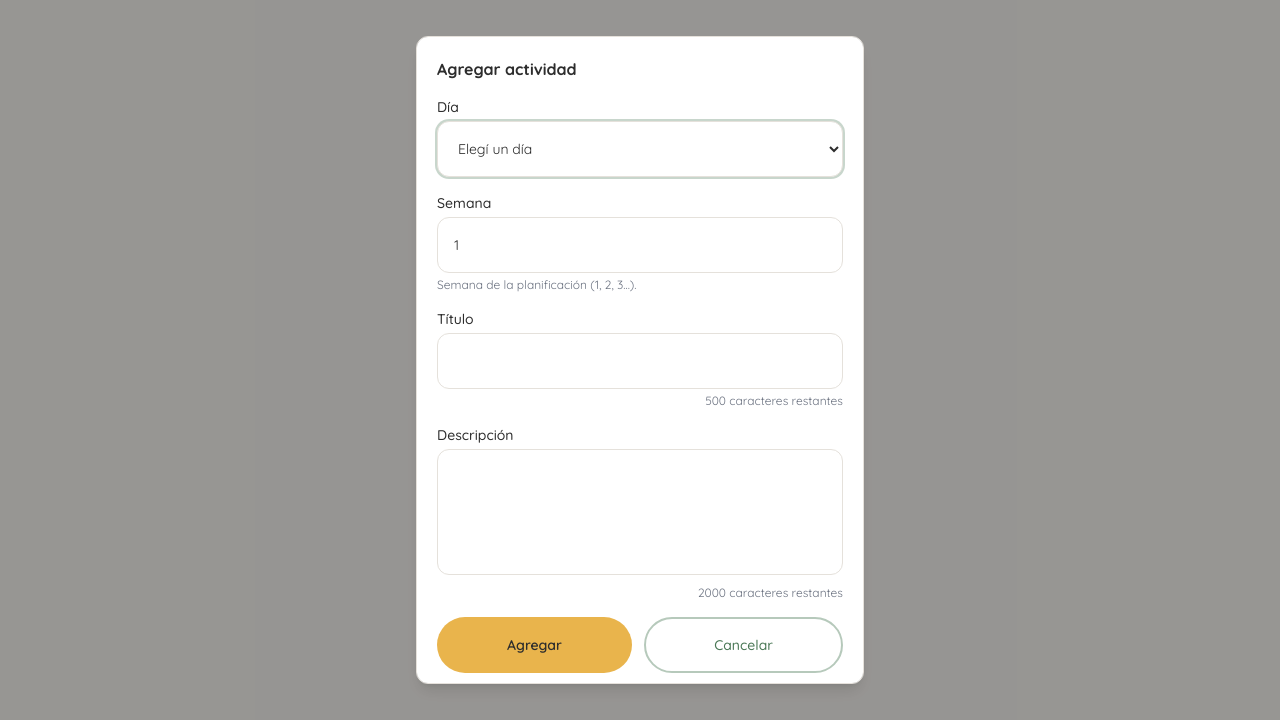
Scenario: AgregarActividadForm › no envía cuando falta solo el día
In the field labelled "Título": (640, 361) x1=437 y1=333 x2=843 y2=389, type "Kermesse"
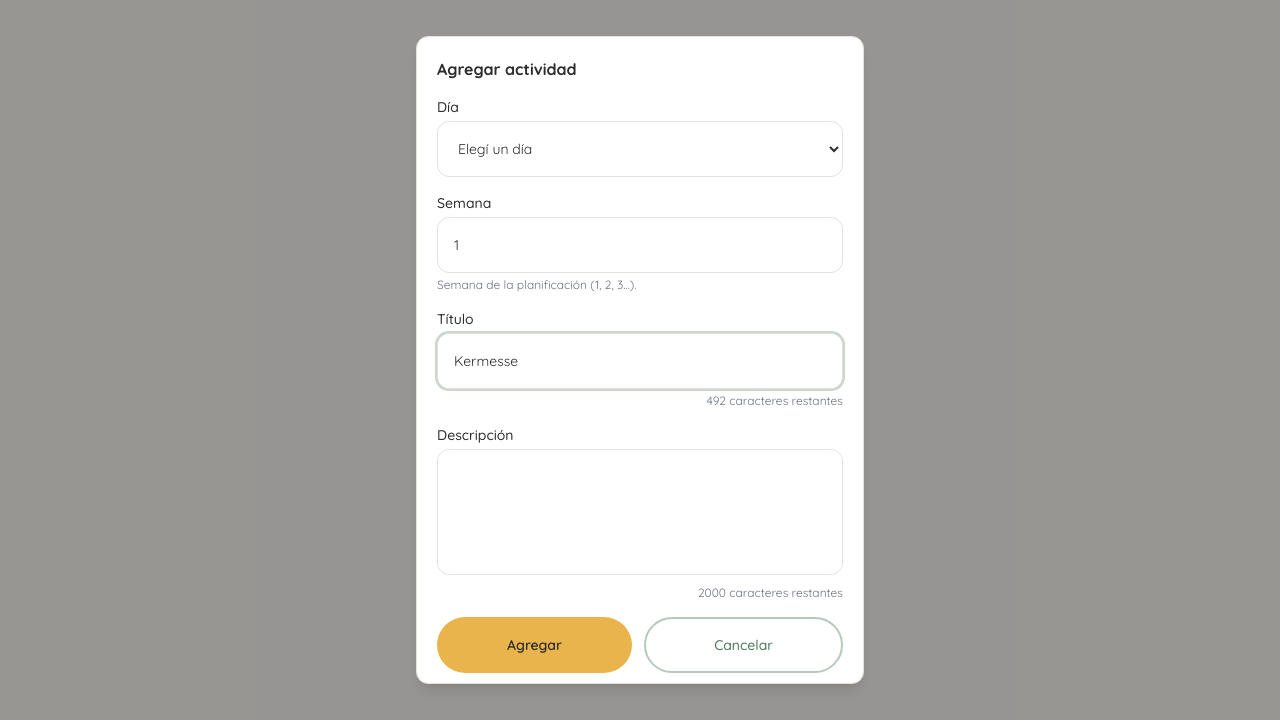
In the text box labelled "Descripción": (640, 512) x1=437 y1=449 x2=843 y2=575, type "Postas lúdicas"
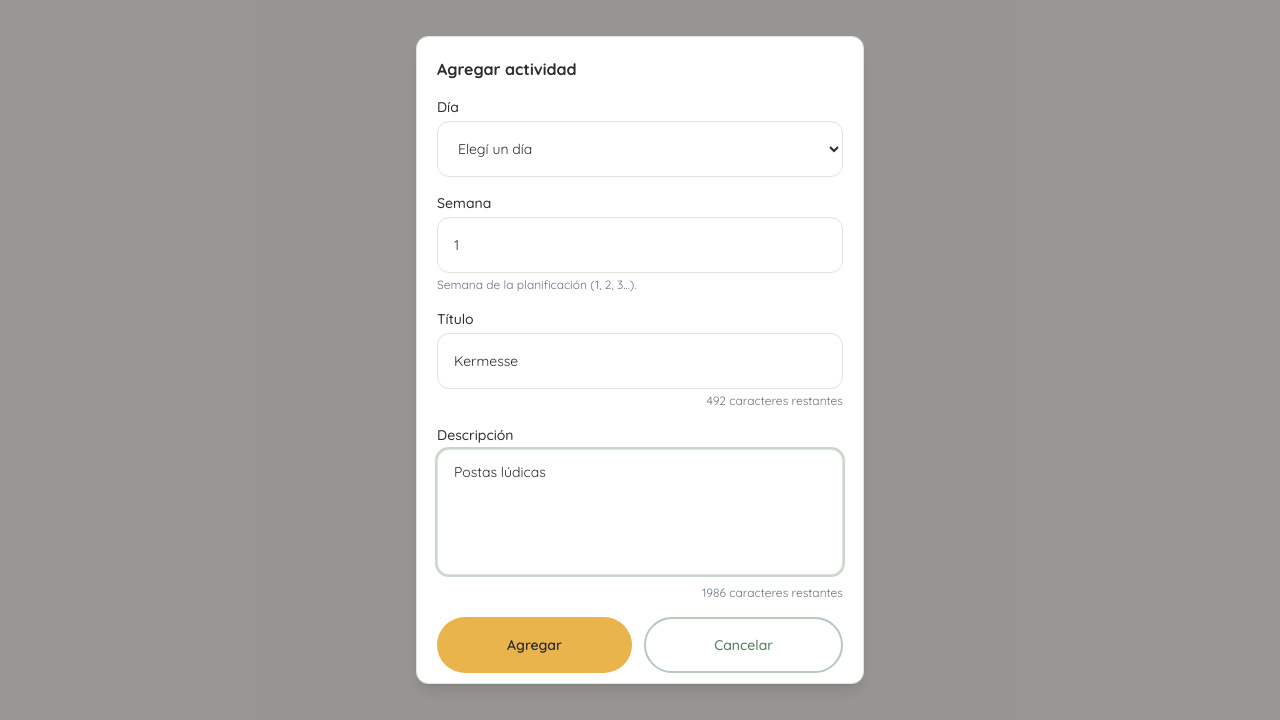
Click the button "Agregar": (534, 645) x1=437 y1=617 x2=632 y2=673
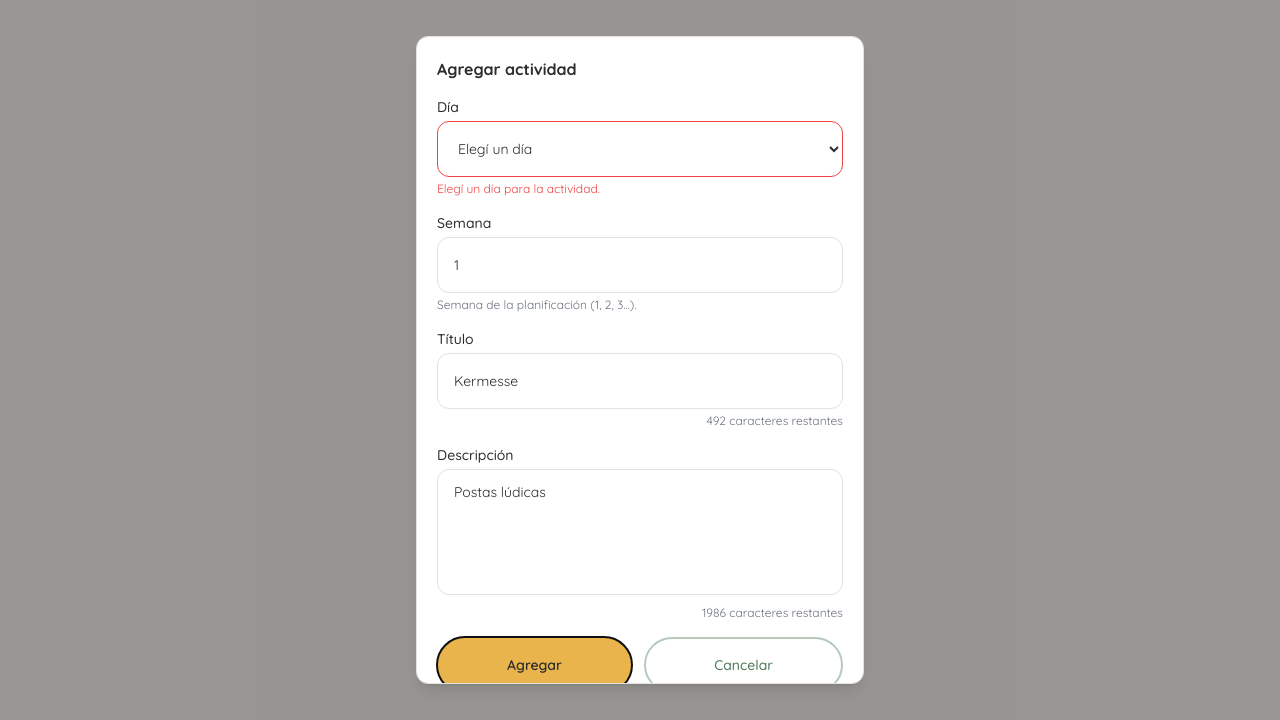
Now the text "Elegí un día para la actividad." is shown, box x1=437 y1=181 x2=600 y2=196
